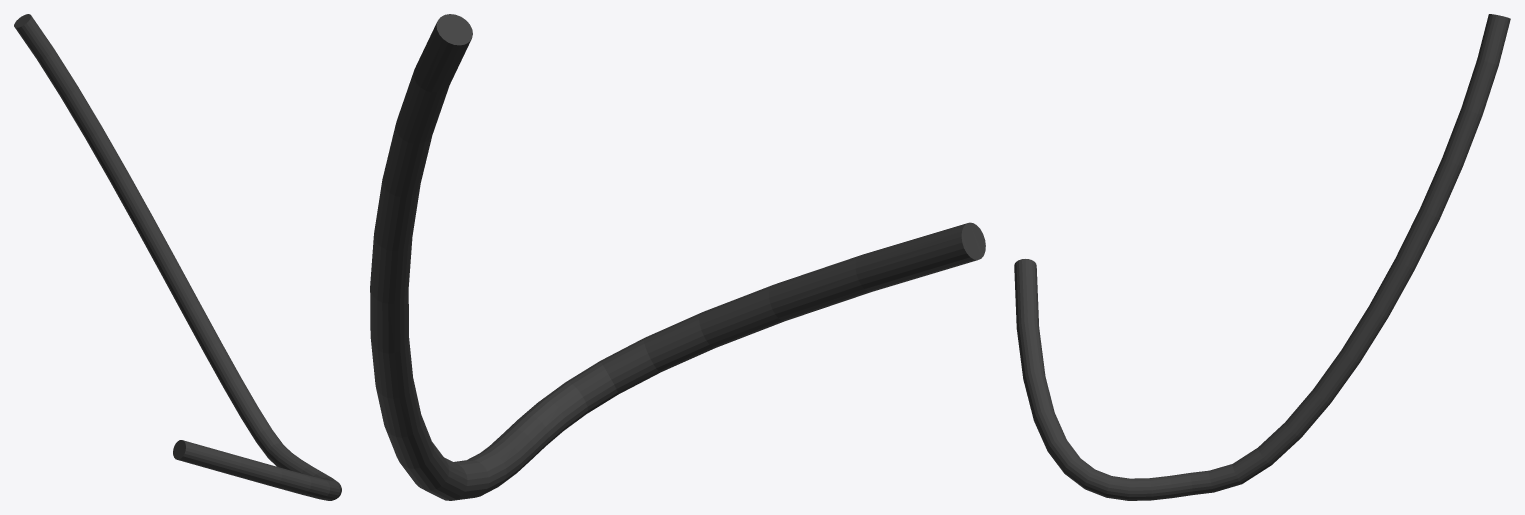
Rendered from n_VII_auriculopalpebral.glb.
3 renders of one model, left to right at view 1: azimuth 30°, elevation 25°; view 2: azimuth 150°, elevation 25°; view 3: azimuth 270°, elevation 25°, orthographic. The views are drawn at different scales.
Visible parts, largest first — view 1: n_VII_auriculopalpebral; view 2: n_VII_auriculopalpebral; view 3: n_VII_auriculopalpebral.
Boxes of the visible parts, bbox=[...] form: n_VII_auriculopalpebral: bbox=[14, 14, 341, 500]; n_VII_auriculopalpebral: bbox=[370, 14, 985, 500]; n_VII_auriculopalpebral: bbox=[1014, 14, 1510, 500].
Bounding box in the file's own units: 0.00338 × 0.00619 × 0.00662.
Materials: 1 (1 with a texture image).
